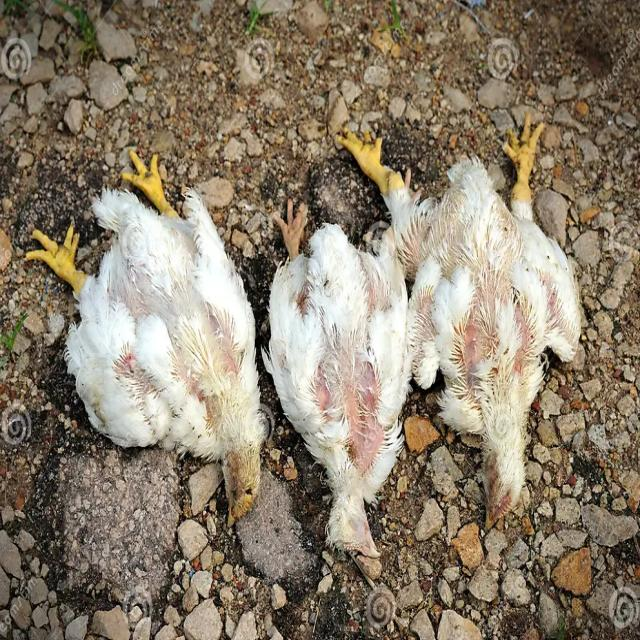Unhealthy: (338, 106, 584, 525), (30, 136, 273, 553), (249, 189, 417, 581)
